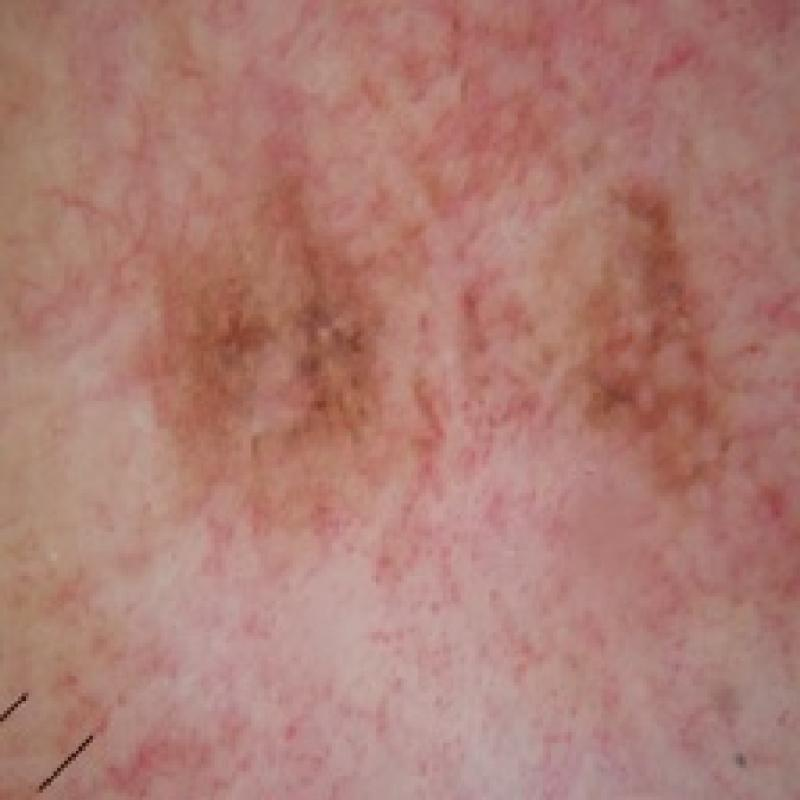malignant: (103, 108, 472, 542)
